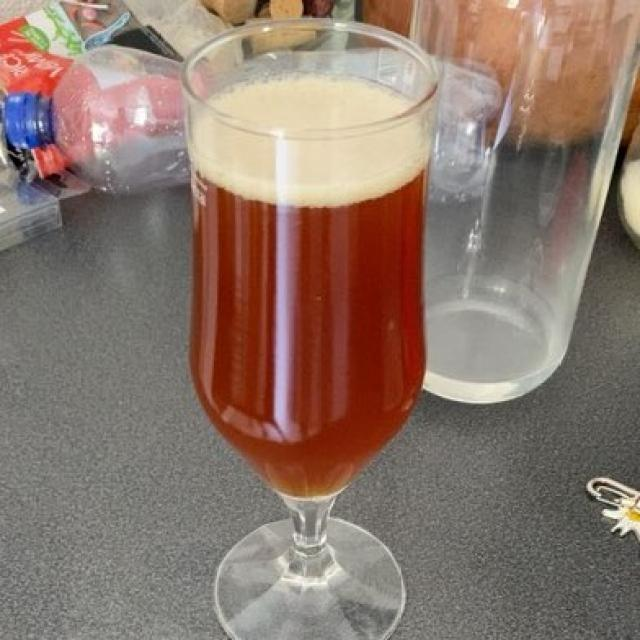beer: (185, 61, 429, 494)
